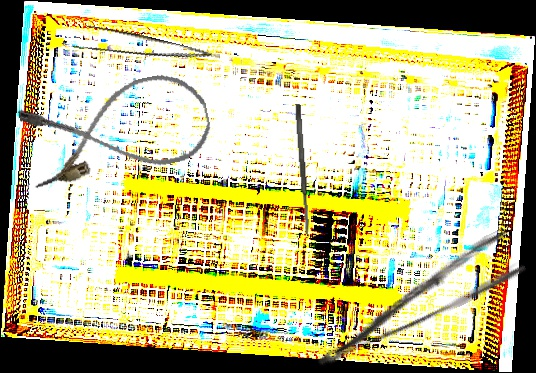Cannula: (16, 66, 217, 193)
Dressing Forceps: (299, 226, 529, 371)
Spatula Surgical: (294, 103, 311, 236)
Tissue Forceps: (79, 21, 221, 80)
